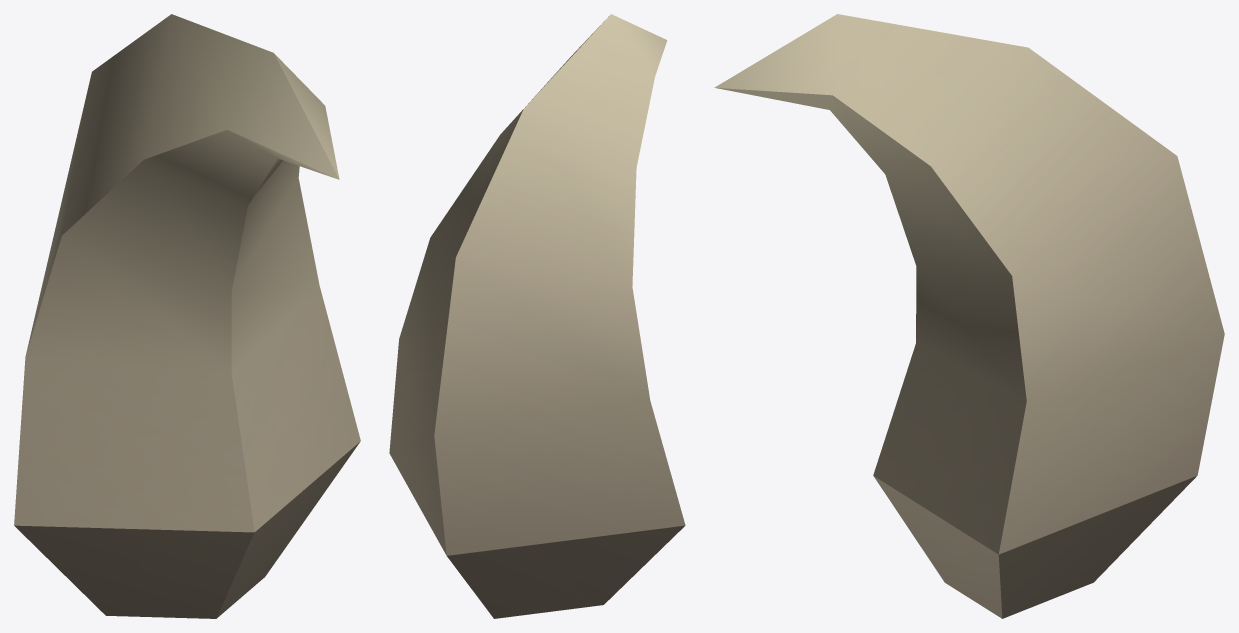
File: SM_Bone_Tooth_01.fbx
3 renders of one model, left to right at view 1: azimuth 30°, elevation 25°; view 2: azimuth 150°, elevation 25°; view 3: azimuth 270°, elevation 25°, orthographic. The views are drawn at different scales.
Parts seen in each view (by area): view 1: SM_Bone_Tooth_01; view 2: SM_Bone_Tooth_01; view 3: SM_Bone_Tooth_01.
Boxes of the visible parts, bbox=[...] form: SM_Bone_Tooth_01: bbox=[14, 14, 360, 618]; SM_Bone_Tooth_01: bbox=[389, 14, 685, 618]; SM_Bone_Tooth_01: bbox=[714, 14, 1224, 618].
Bounding box in the file's own units: 231 × 387 × 315.
Materials: 1 (1 with a texture image).
